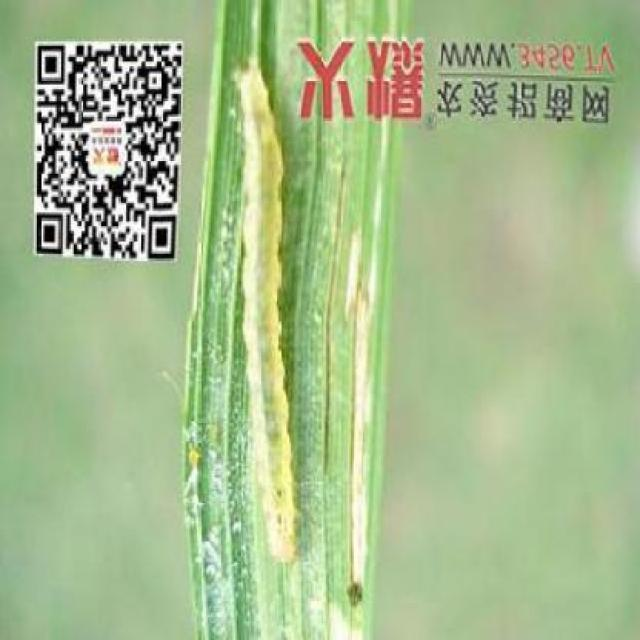leaf-folder: (236, 134, 341, 600)
